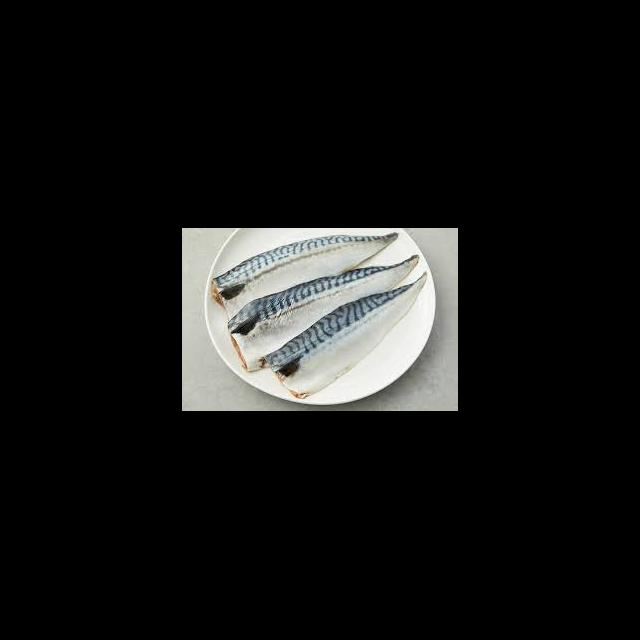fish: (229, 256, 419, 372), (266, 276, 426, 399), (213, 230, 399, 320)
